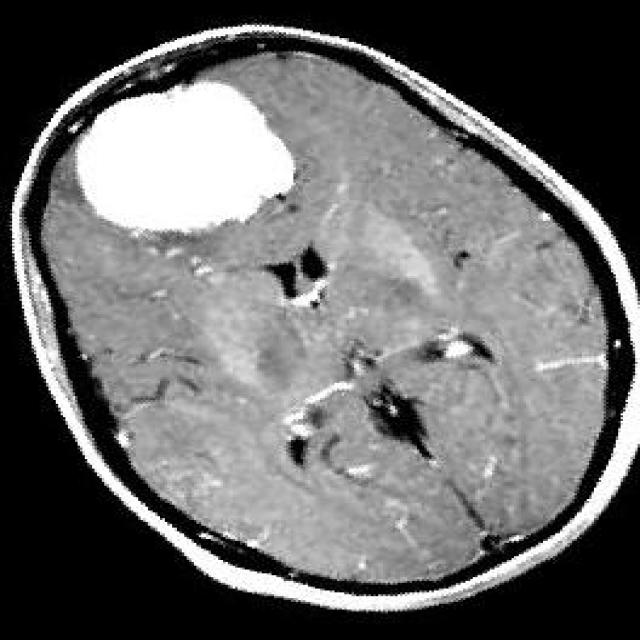Tumor-Cell: (76, 86, 290, 228)
